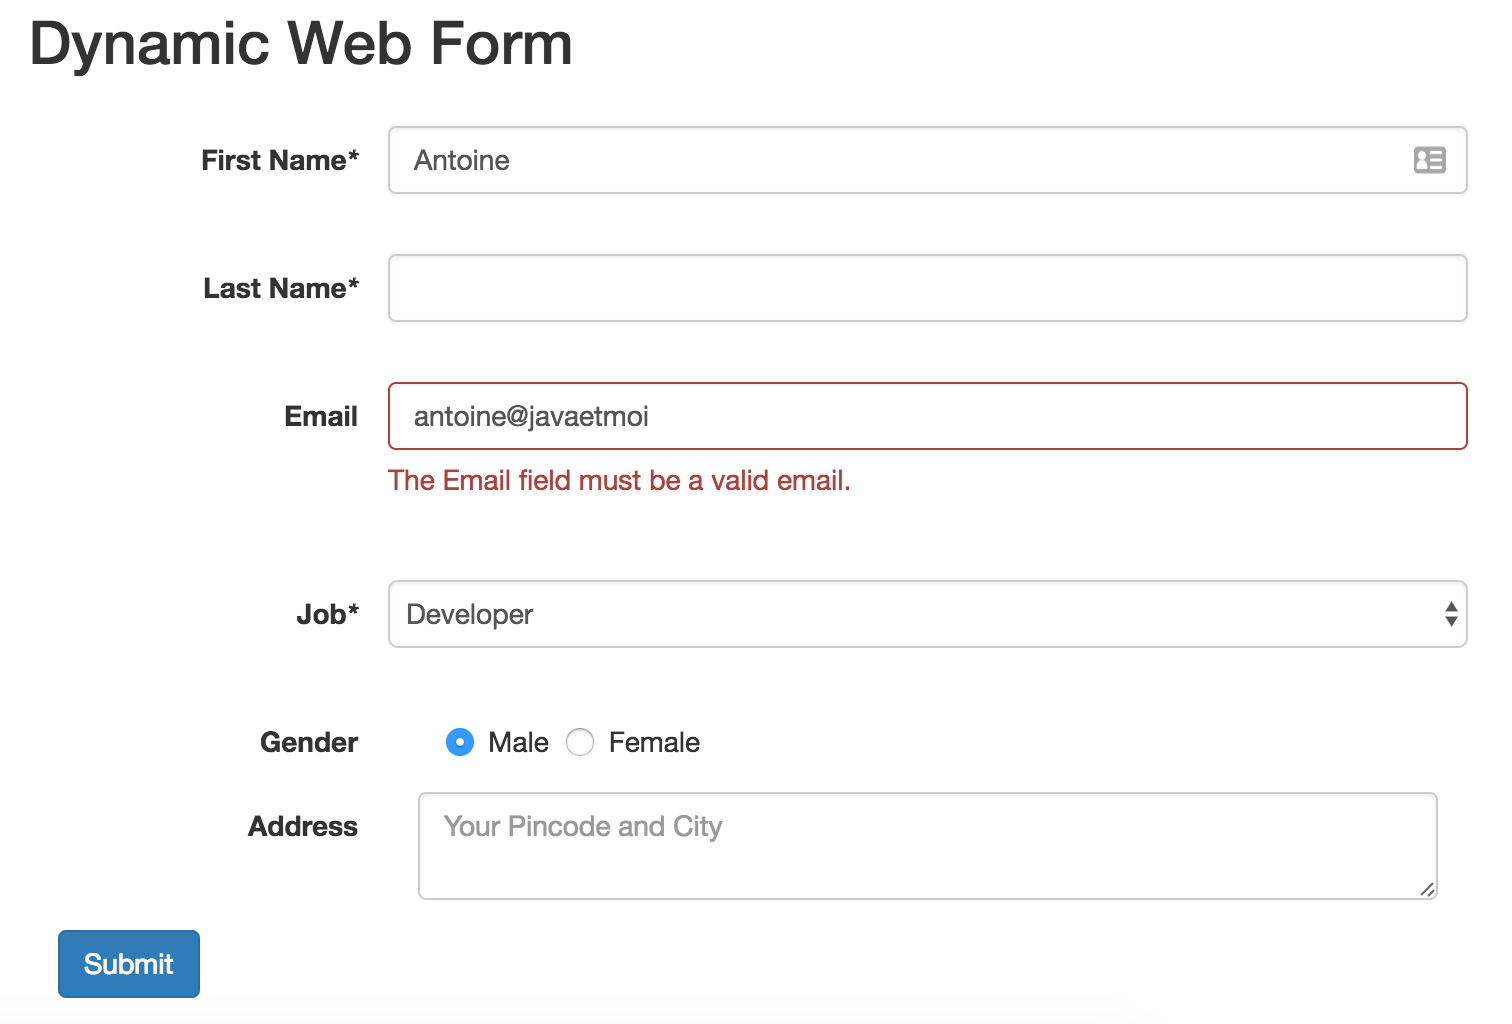_form_: (186, 59, 1494, 949)
button: (53, 927, 202, 999)
field: (411, 789, 1442, 902), (382, 122, 1470, 197), (385, 379, 1478, 453), (385, 251, 1474, 325)
field_with_label: (249, 782, 1449, 907), (199, 248, 1481, 331), (198, 119, 1477, 202), (293, 571, 1485, 658), (278, 374, 1485, 456)
radio: (442, 722, 481, 759), (565, 721, 599, 761)
radio_with_label: (561, 715, 701, 765), (435, 718, 549, 761)
select: (379, 577, 1474, 654)
